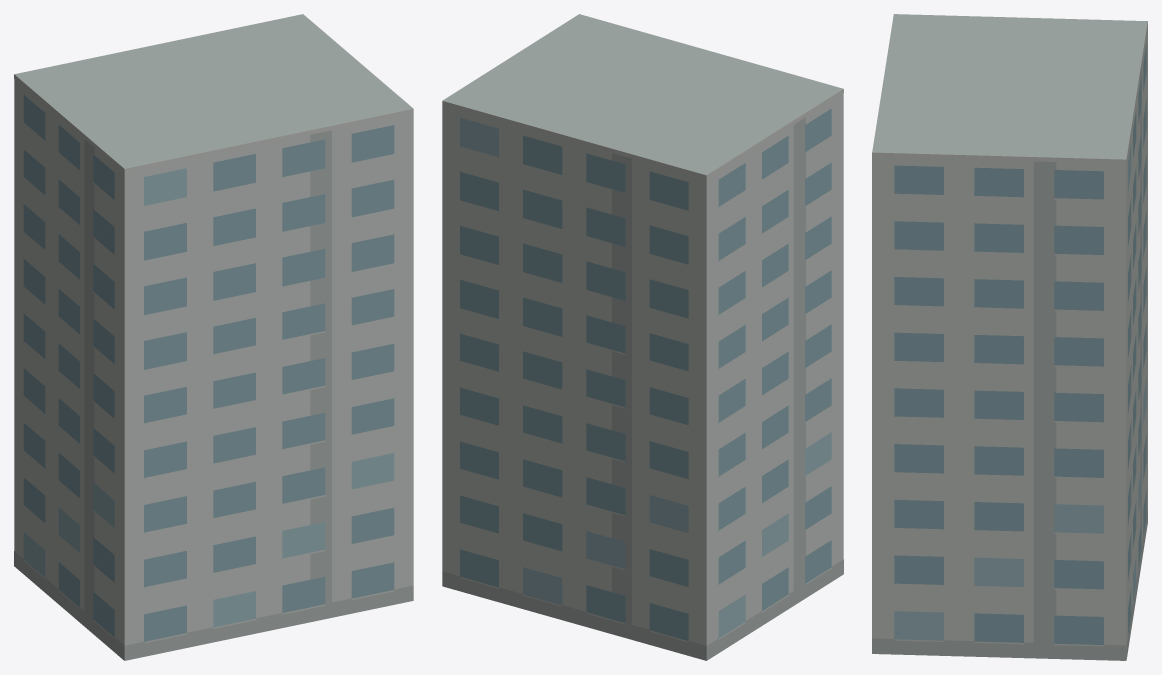
File: residential-9d2bd705-c127-460e-8371-45c05b398634.glb
The picture shows the model from 3 angles, left to right: view 1: azimuth 30°, elevation 25°; view 2: azimuth 150°, elevation 25°; view 3: azimuth 270°, elevation 25°; orthographic projection. The views are drawn at different scales.
Visible parts, largest first — view 1: residential-9d2bd705-c127-460e-8371-45c05b398634.tmp; view 2: residential-9d2bd705-c127-460e-8371-45c05b398634.tmp; view 3: residential-9d2bd705-c127-460e-8371-45c05b398634.tmp.
Boxes of the visible parts, bbox=[...] form: residential-9d2bd705-c127-460e-8371-45c05b398634.tmp: bbox=[14, 14, 413, 660]; residential-9d2bd705-c127-460e-8371-45c05b398634.tmp: bbox=[442, 14, 843, 660]; residential-9d2bd705-c127-460e-8371-45c05b398634.tmp: bbox=[872, 14, 1147, 660].
Bounding box in the file's own units: 16.82 × 27 × 13.47.
